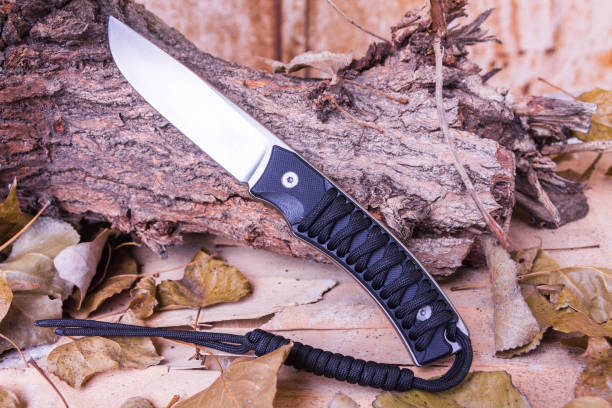knife: (105, 12, 470, 370)
